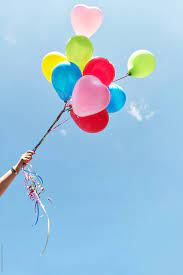Balloon: (71, 74, 110, 116), (70, 4, 102, 37), (51, 61, 76, 97), (126, 49, 155, 78), (67, 37, 93, 68)
